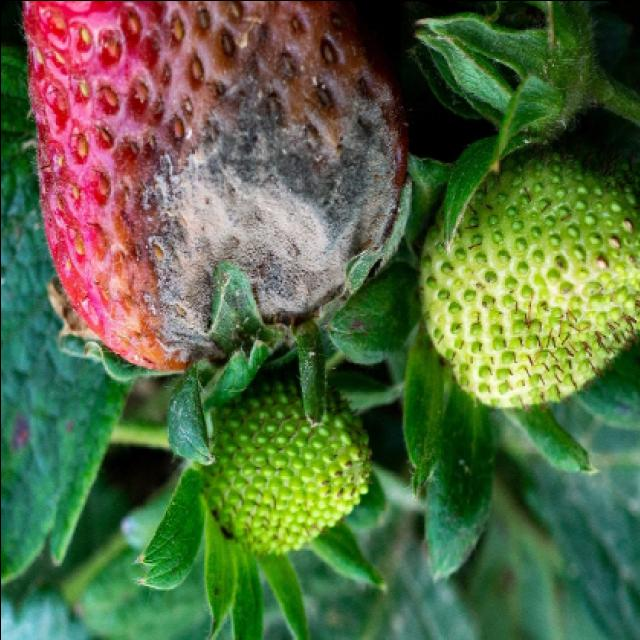Gray Mold: (23, 2, 411, 408)
